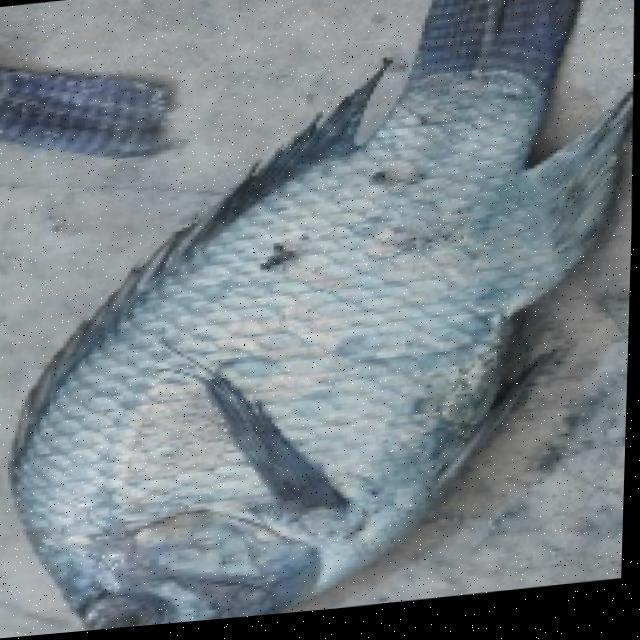Non-Fresh: (0, 166, 513, 640)
